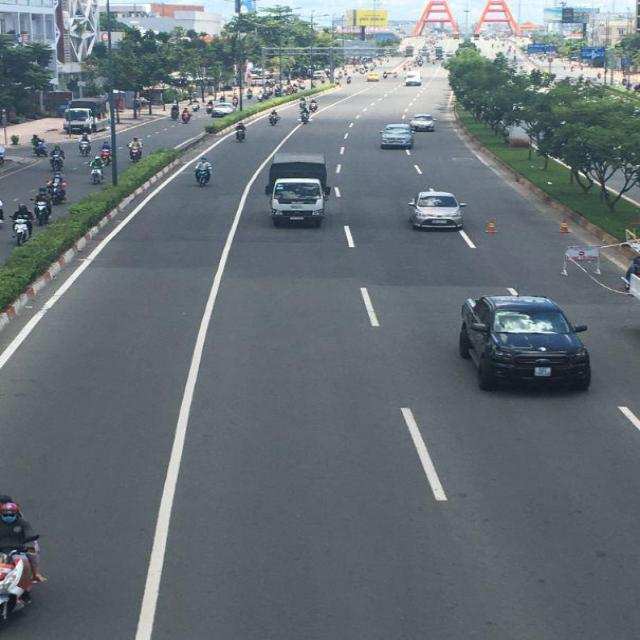car: (460, 292, 592, 393), (409, 192, 468, 234), (380, 124, 414, 152), (410, 115, 434, 133), (404, 76, 424, 88)
motorcycle: (0, 536, 45, 633), (13, 220, 31, 244), (195, 160, 211, 186), (182, 109, 192, 124)
truck: (267, 154, 325, 228), (64, 95, 114, 136)
